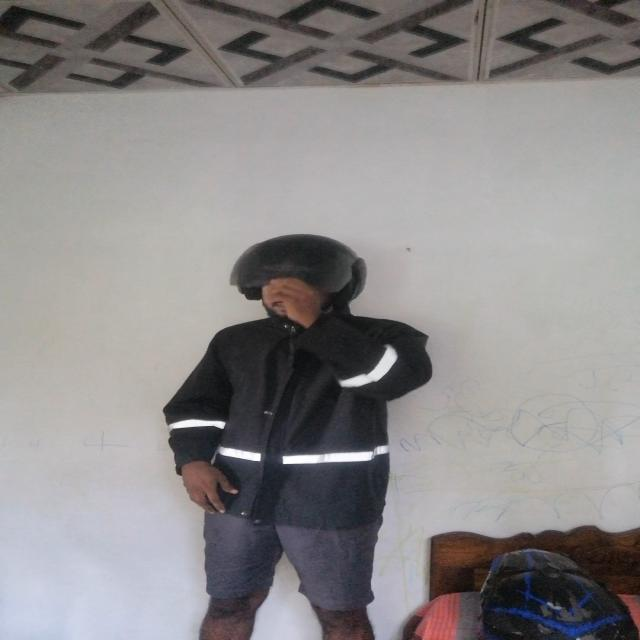Helmet_Wearer: (219, 230, 397, 342)
Jacket_Wearer: (169, 301, 431, 541)
Person: (158, 231, 426, 632)
